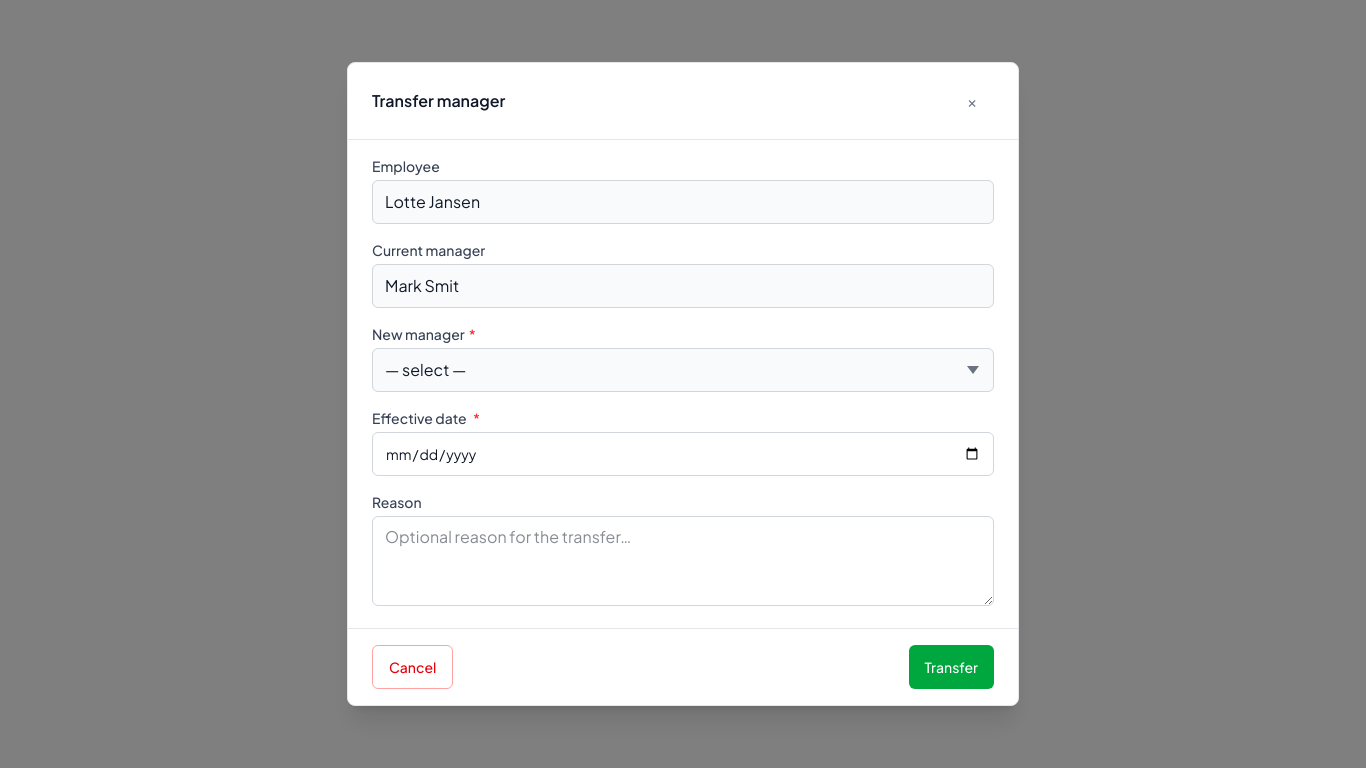
Test: TransferManagerModal › AC-W05: shows "The effective date cannot be in the past." for a past date
# Select a manager
Select "5" in the dropdown labelled "New manager*" at (683, 370), box [372,348,994,392]
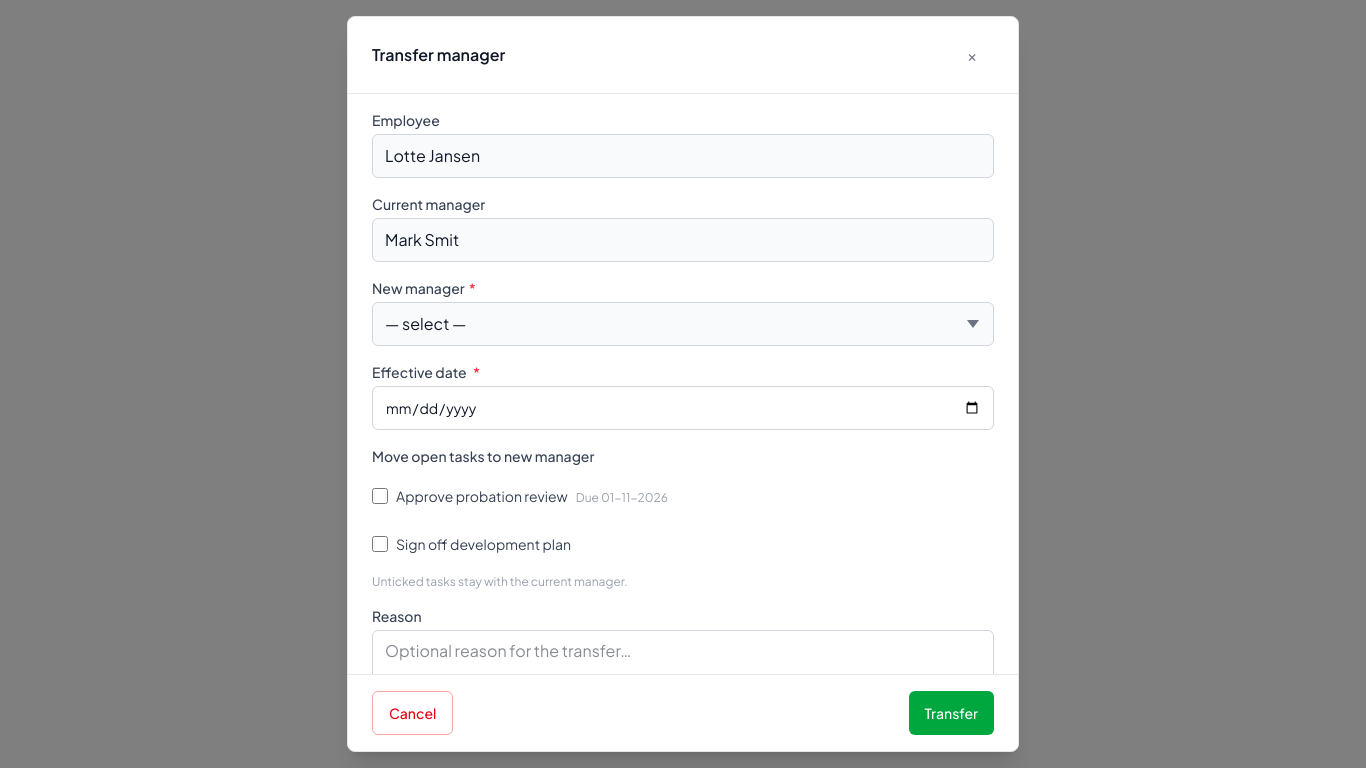
# Enter a past date (2020-01-01)
Type "2020-01-01" into the date field labelled "Effective date *".
click(683, 408); type("2020-01-01")  # box [372,386,994,430]
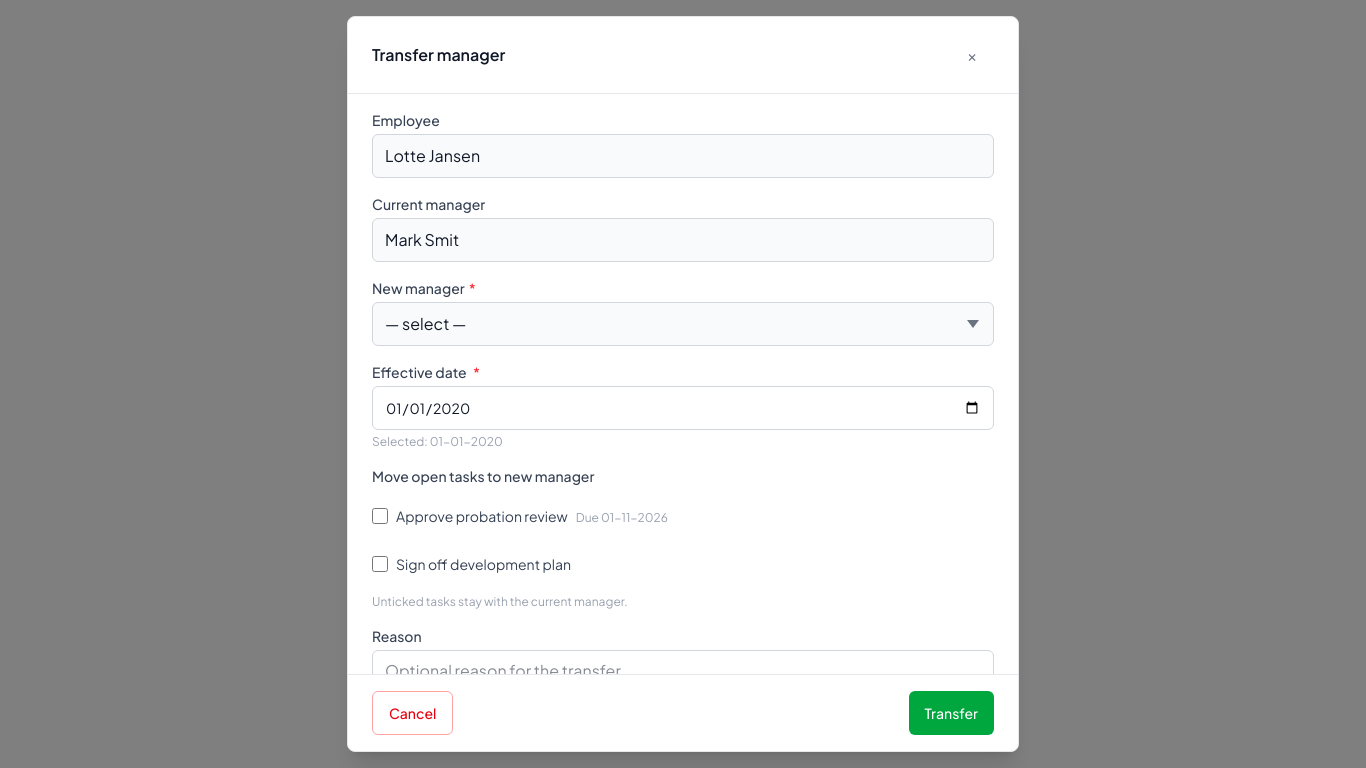
# Click Transfer
Click the button "Transfer".
click(951, 713)  # box [909,691,994,735]
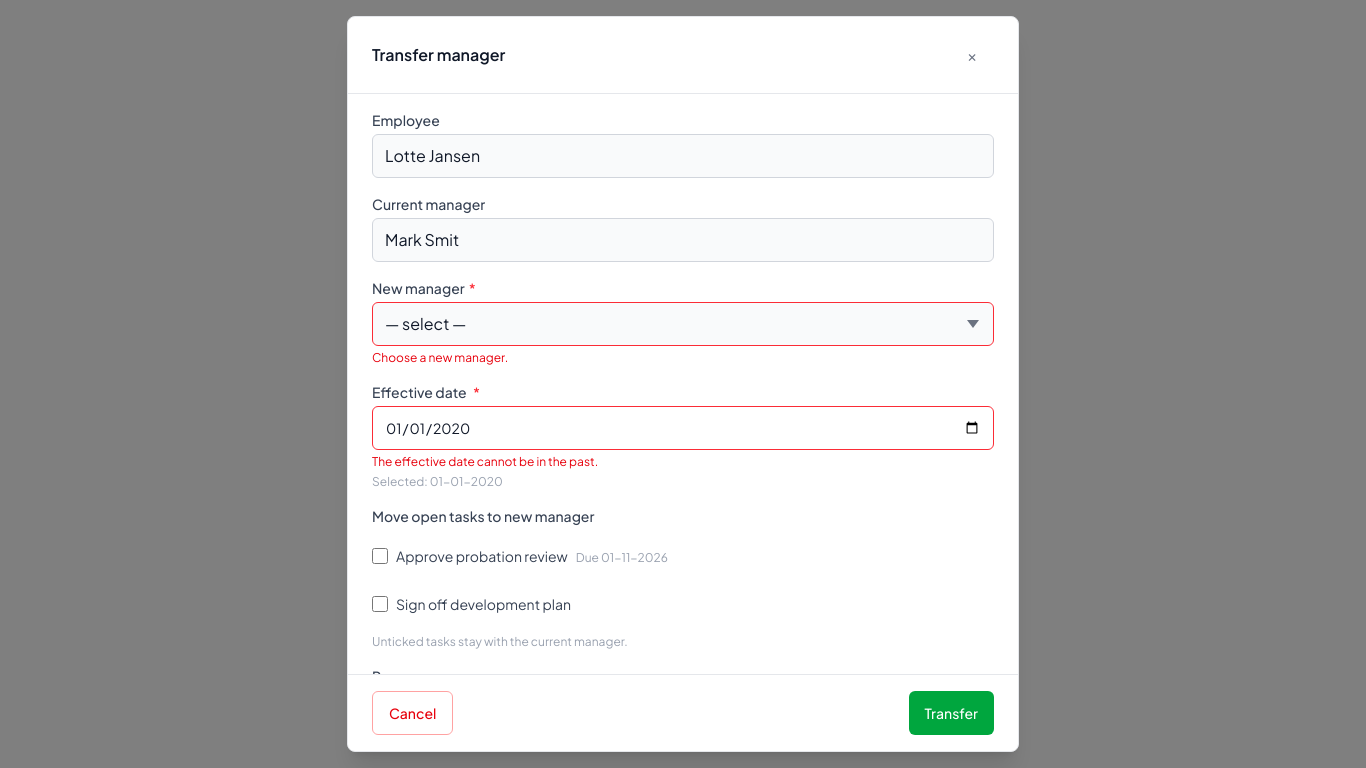
Expected: the text "The effective date cannot be in the past." is shown, [372,454,598,469]
